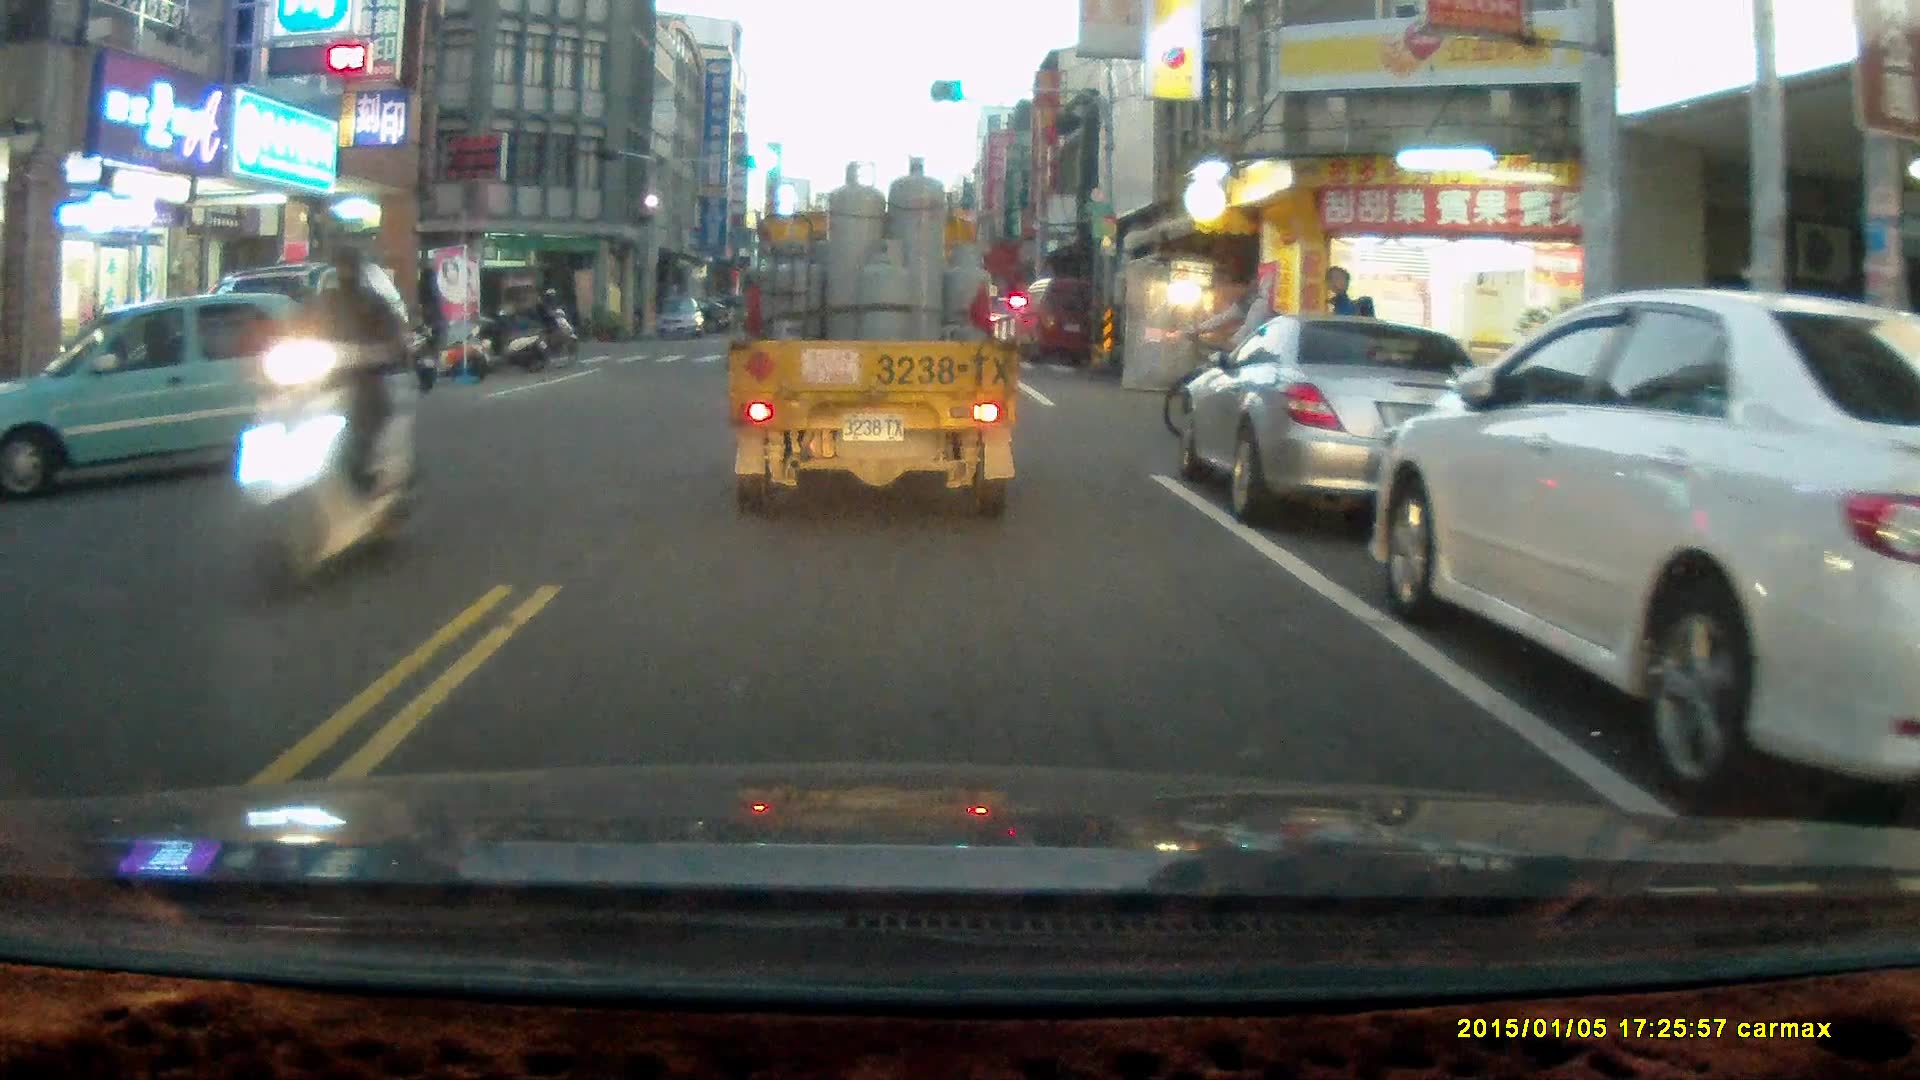rider: (236, 236, 423, 606), (1164, 271, 1324, 450), (518, 285, 581, 357)
vehicle: (1378, 283, 1920, 792), (729, 157, 1020, 518), (1177, 315, 1516, 522), (1, 289, 339, 493), (333, 261, 542, 365), (1018, 271, 1121, 363), (654, 296, 708, 341)
